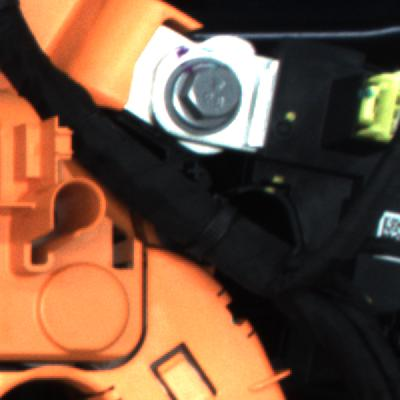nut_b: (161, 55, 258, 140)
